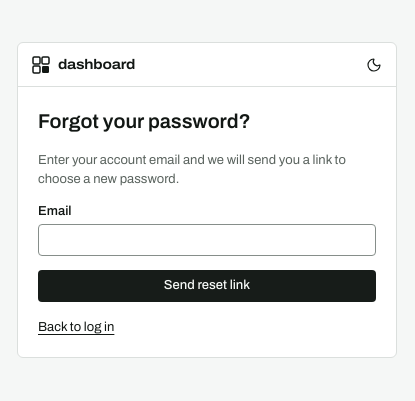
Test: ForgotPasswordPage › posts the email and shows the neutral confirmation
Type "ada@example.com" into the field labelled "Email" at (207, 240), box [38,224,376,256]
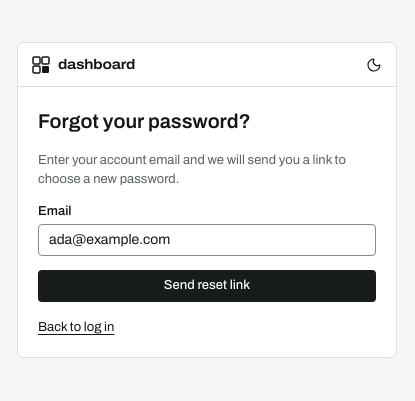
Click the button "Send reset link" at (207, 286), box [38,270,376,302]
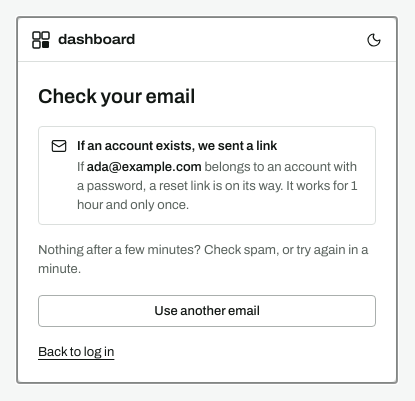
Expected: the text "If an account exists, we sent a link" is shown, [77,139,277,153]
